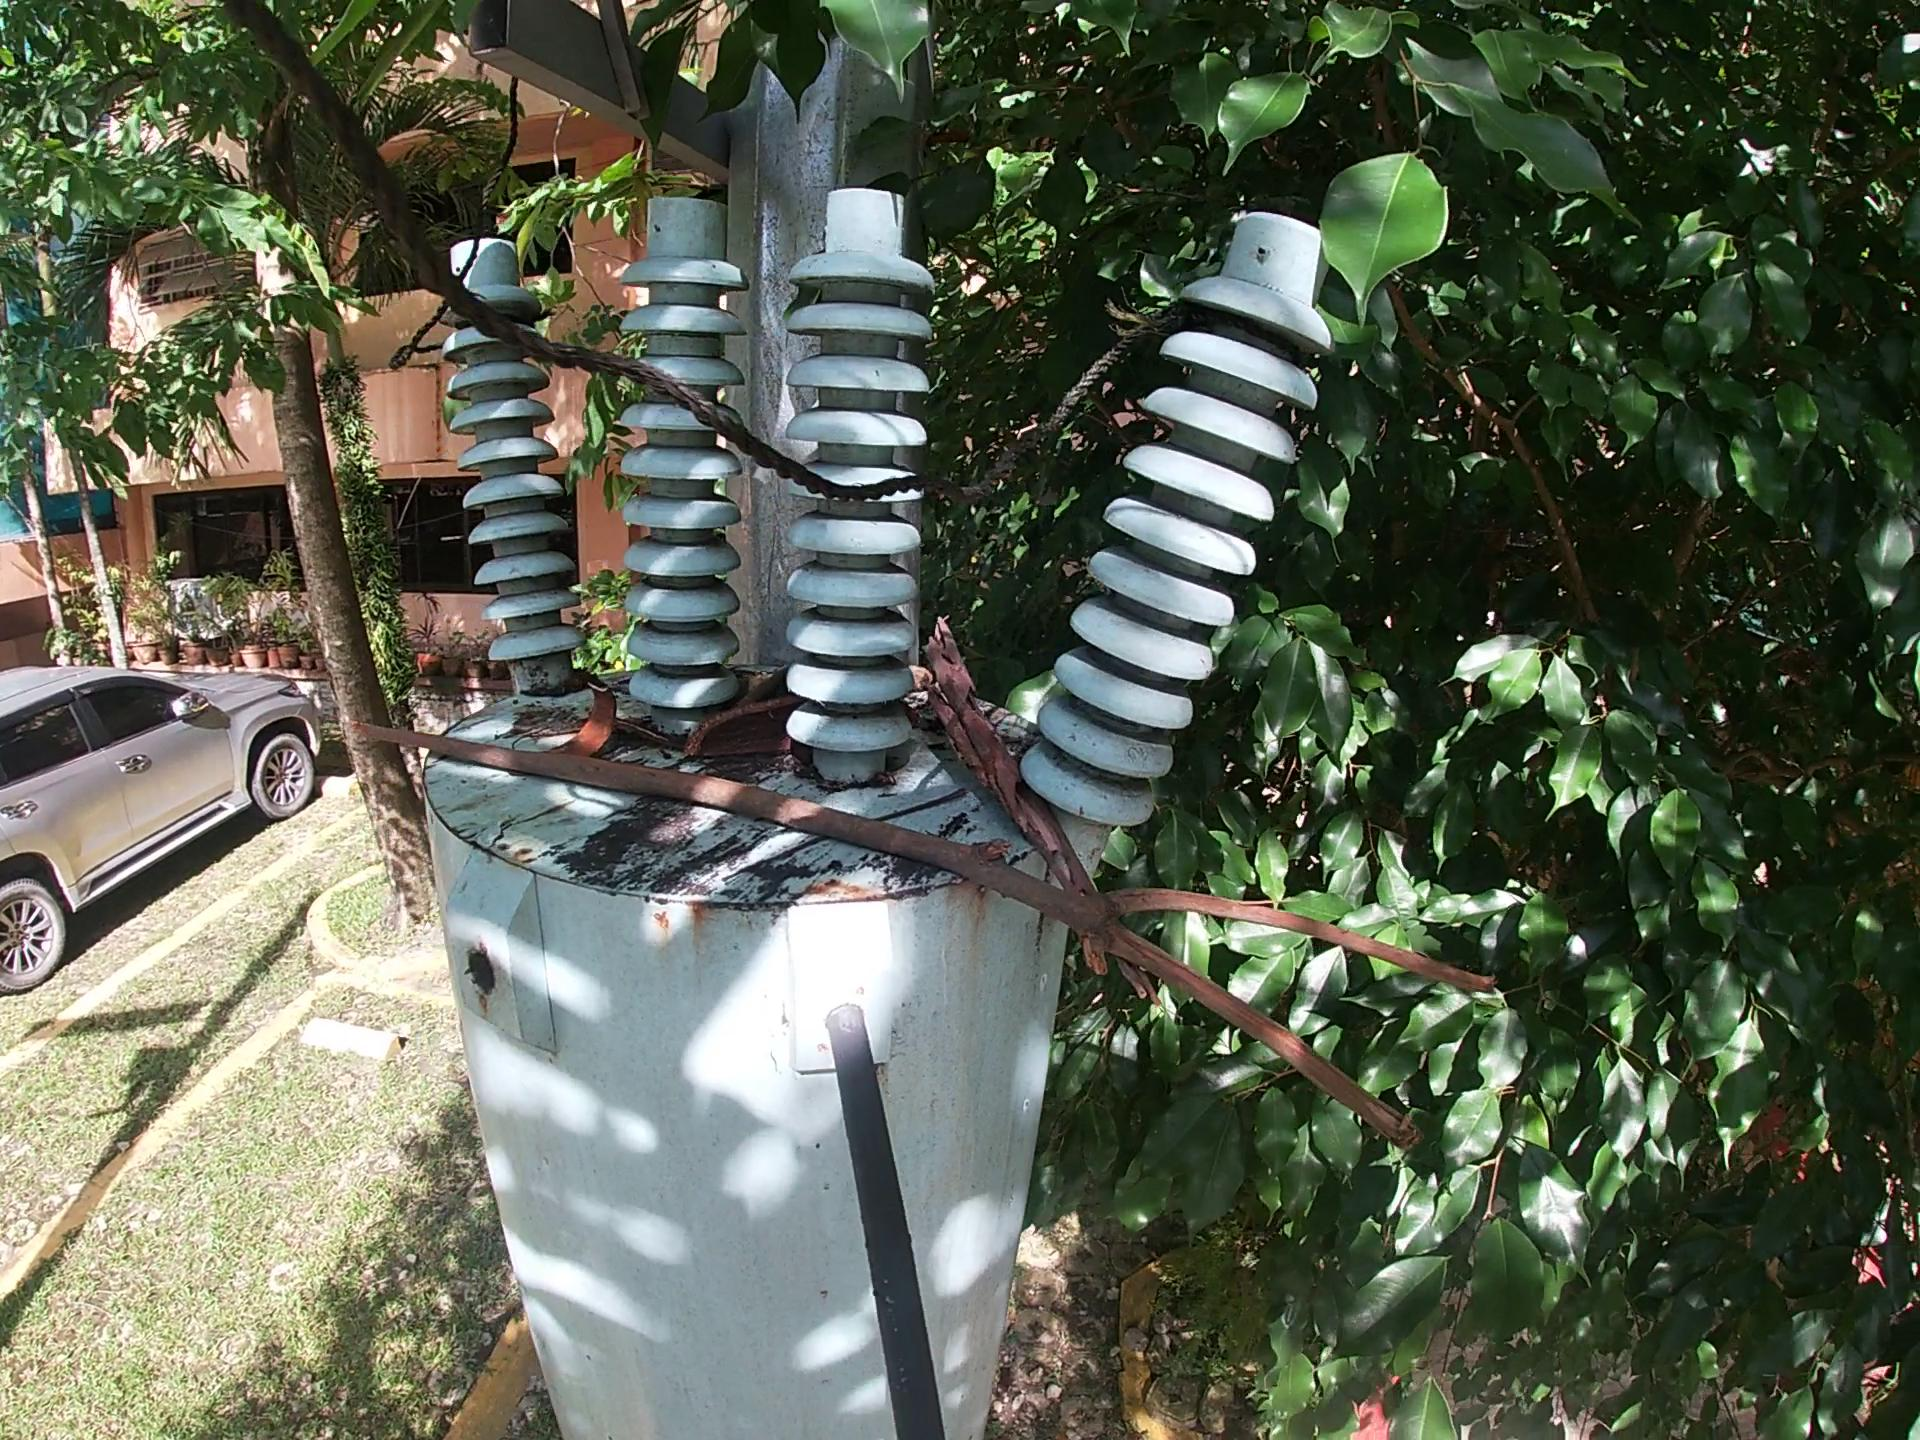mahogany fruit: (689, 703, 779, 771), (578, 679, 627, 756)
tree branch: (351, 715, 1507, 1168), (915, 628, 1166, 1019), (729, 832, 828, 880), (881, 790, 977, 814), (506, 722, 574, 753), (609, 723, 686, 750), (735, 663, 776, 706)
